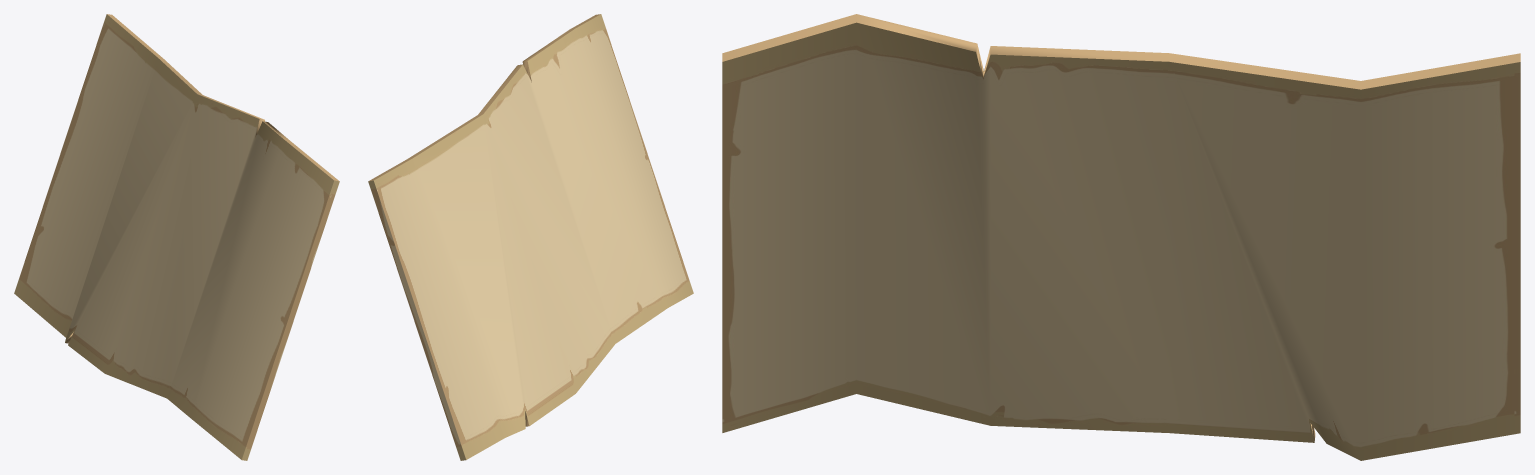
Rendered from Map.fbx.
The picture shows the model from 3 angles, left to right: view 1: azimuth 30°, elevation 25°; view 2: azimuth 150°, elevation 25°; view 3: azimuth 270°, elevation 25°; orthographic projection. The views are drawn at different scales.
Visible parts, largest first — view 1: pCube217; view 2: pCube217; view 3: pCube217.
Boxes of the visible parts, <box> form: pCube217: <box>14,14,339,460</box>; pCube217: <box>368,14,693,460</box>; pCube217: <box>722,14,1520,460</box>.
Bounding box in the file's own units: 0.9247 × 2.18 × 3.12.
